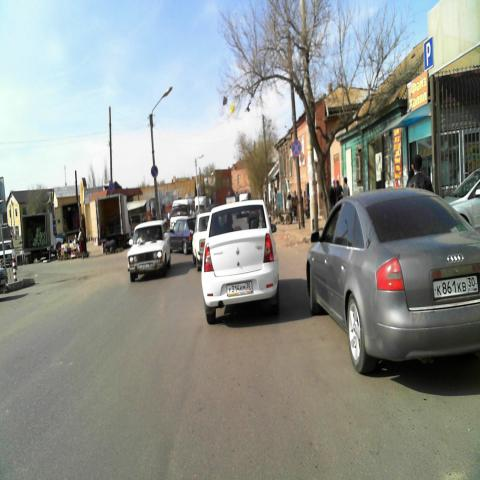3_28: (151, 165, 159, 178)
6_4: (424, 37, 433, 72)
